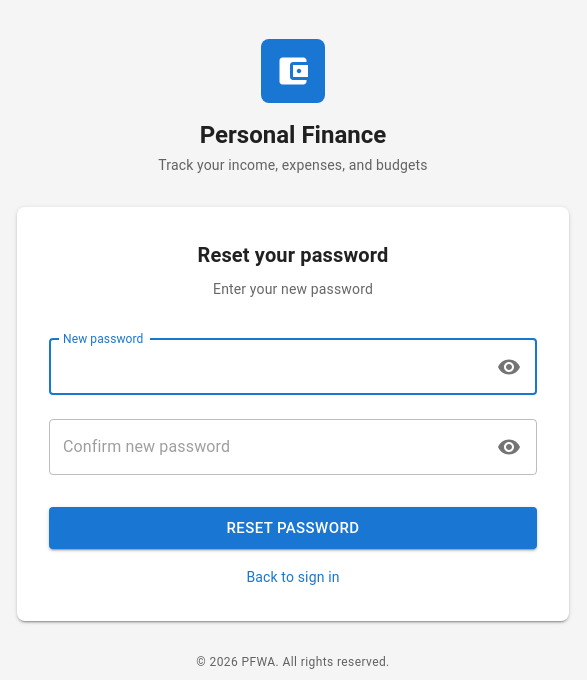
Scenario: ResetPasswordPage › should show success message after reset
This screenshot has width=587, height=680.
Type "SecurePass123!" into the password field labelled "New password" at {"x": 266, "y": 367}, box [49,339,484,395]
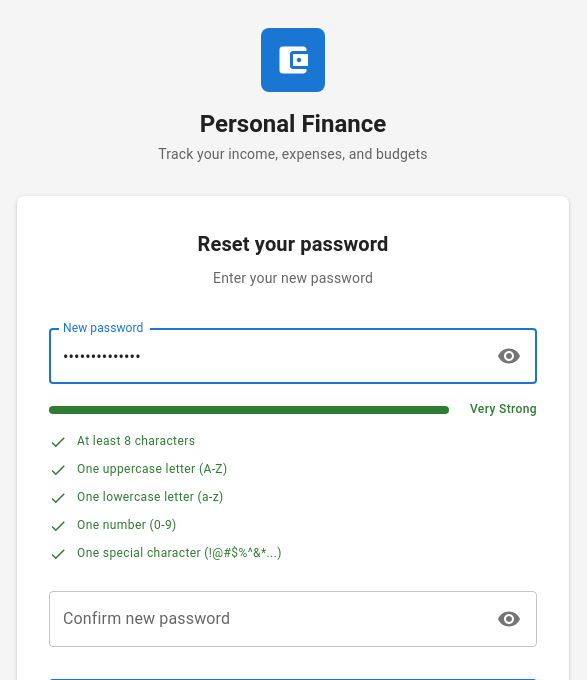
Type "SecurePass123!" into the password field labelled "Confirm new password" at {"x": 266, "y": 620}, box [49,592,484,648]
(page scrolled)
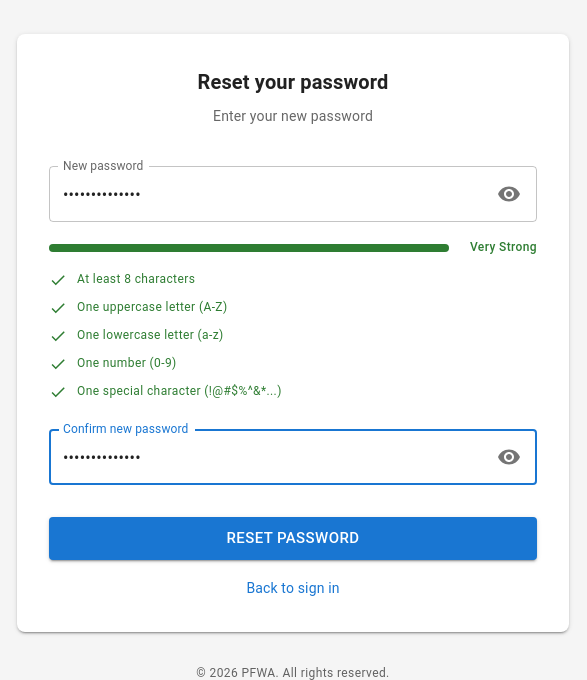
Click the button "Reset password" at {"x": 293, "y": 539}, box [49,518,537,560]
(page scrolled)
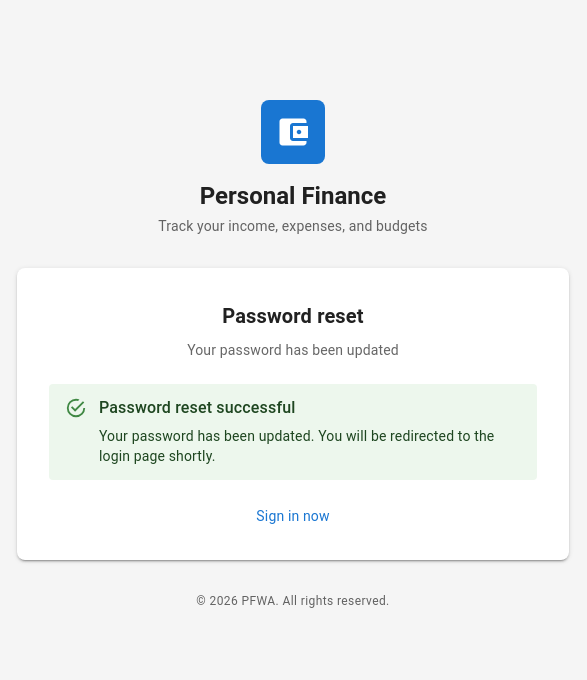
Expected: the heading "Password reset" is shown, [222,304,364,328]
Expected: the text "Password reset successful" is shown, [99,398,296,417]
